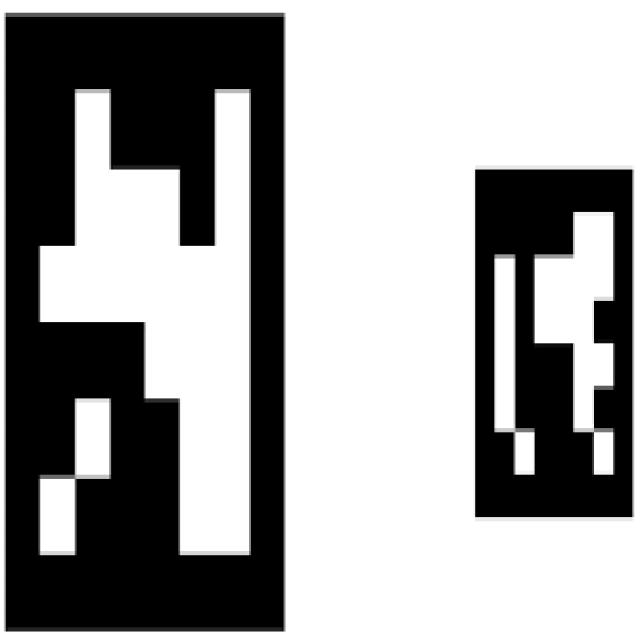aruco: (1, 0, 306, 640), (470, 168, 635, 529)
